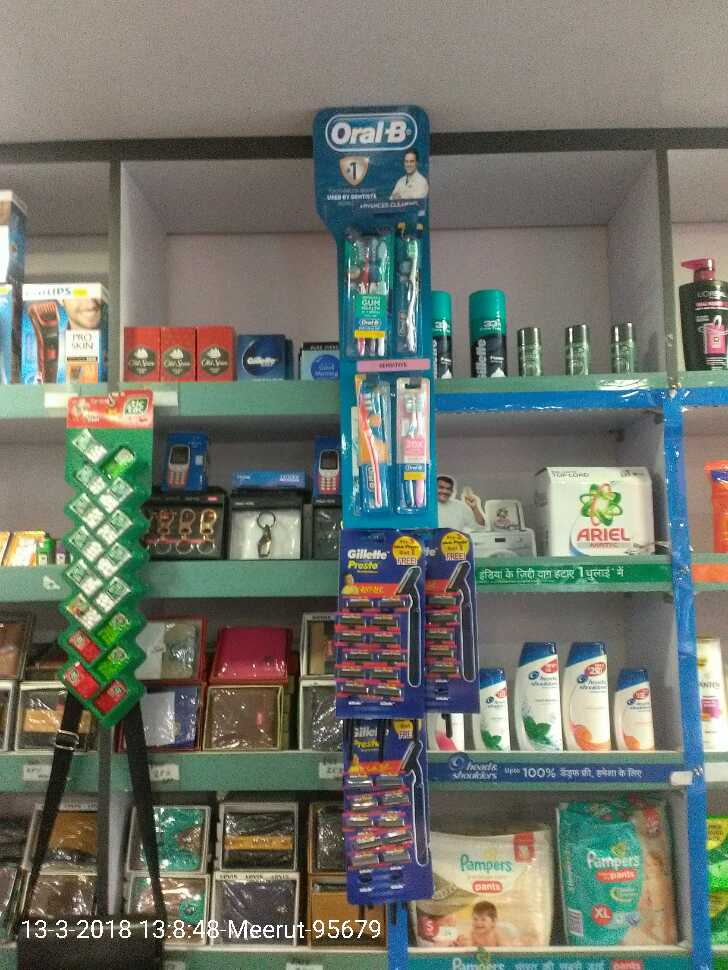beauty: (345, 530, 417, 714), (340, 746, 420, 900), (506, 633, 567, 754), (561, 644, 614, 751), (611, 666, 653, 758), (467, 286, 507, 379), (468, 661, 510, 748), (232, 330, 299, 383)
home: (535, 461, 675, 558)
pharmacy: (561, 796, 681, 950), (408, 830, 554, 948)
